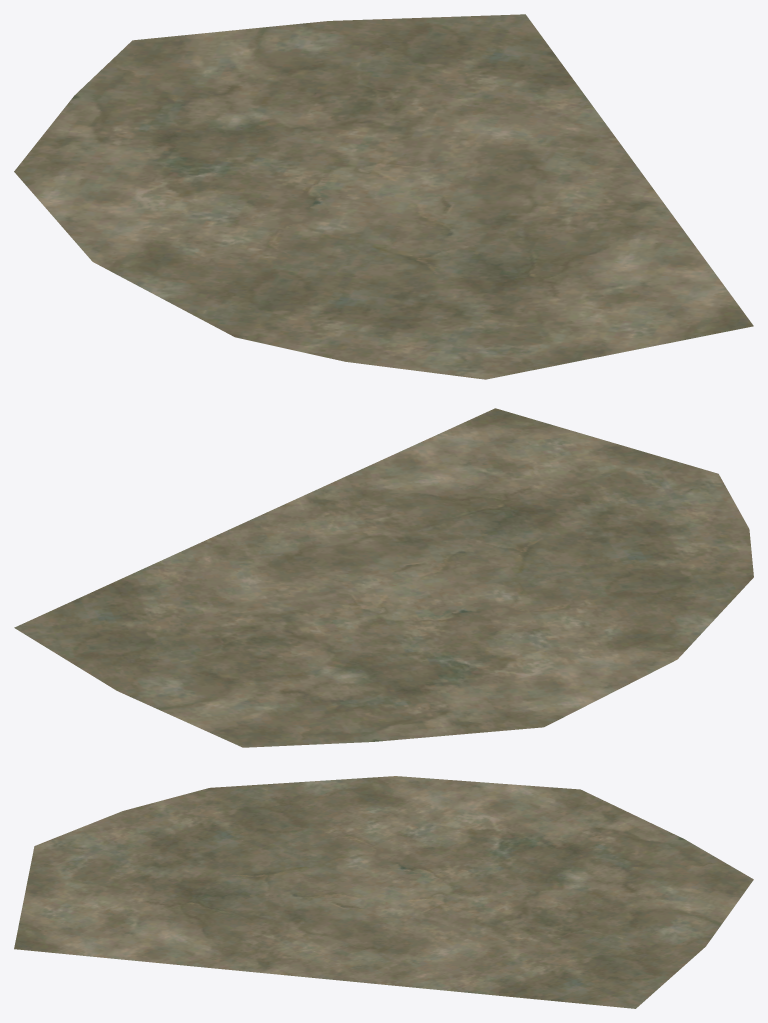
File: OVERHILL_A_01_GROUND_28.fbx
The picture shows the model from 3 angles, top to bottom: view 1: azimuth 30°, elevation 25°; view 2: azimuth 150°, elevation 25°; view 3: azimuth 270°, elevation 25°; orthographic projection. The views are drawn at different scales.
Visible parts, largest first — view 1: OVERHILL_A_01_GROUND_28; view 2: OVERHILL_A_01_GROUND_28; view 3: OVERHILL_A_01_GROUND_28.
Part boxes in pixels (x1,y1,x2,y2): OVERHILL_A_01_GROUND_28: (14,14,753,379); OVERHILL_A_01_GROUND_28: (14,408,753,747); OVERHILL_A_01_GROUND_28: (14,776,753,1008).
Bounding box in the file's own units: 22452 × 0.00491 × 30142.
Materials: 1 (1 with a texture image).
